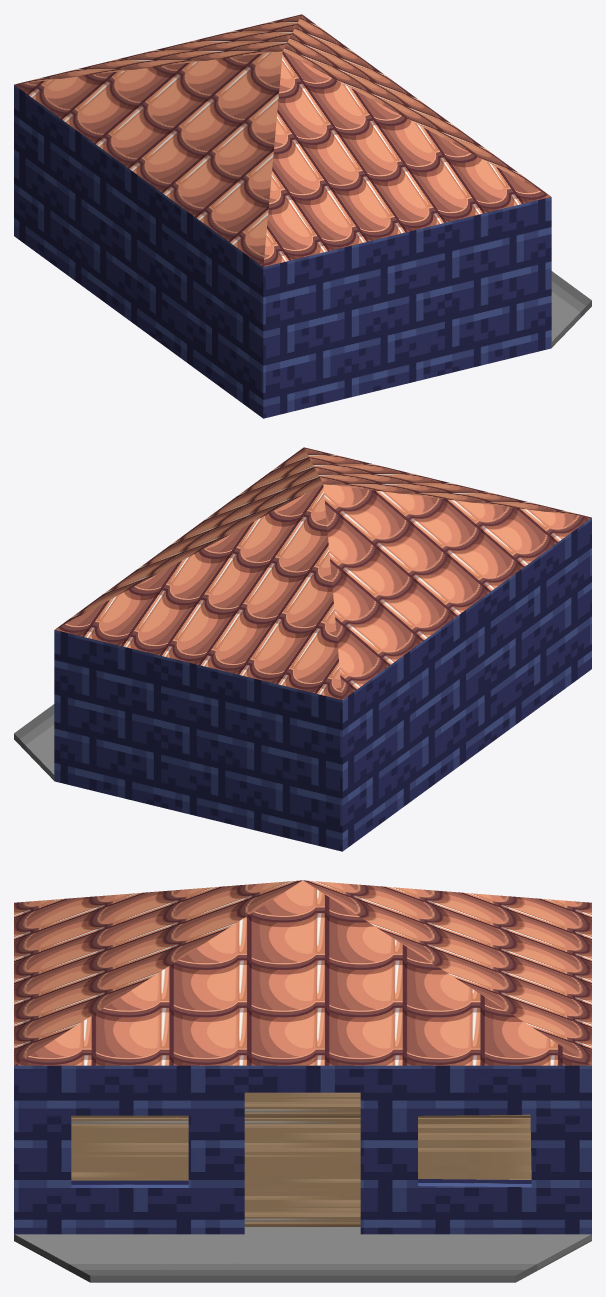
File: building.fbx
3 renders of one model, top to bottom at view 1: azimuth 30°, elevation 25°; view 2: azimuth 150°, elevation 25°; view 3: azimuth 270°, elevation 25°, orthographic. The views are drawn at different scales.
Parts seen in each view (by area): view 1: Building; view 2: Building; view 3: Building.
Boxes of the visible parts, x1,y1,x2,y2 form: Building: (14, 14, 591, 418); Building: (14, 447, 591, 851); Building: (14, 880, 591, 1282).
Size of the model in its own units: 2510 by 1600 by 3000.
